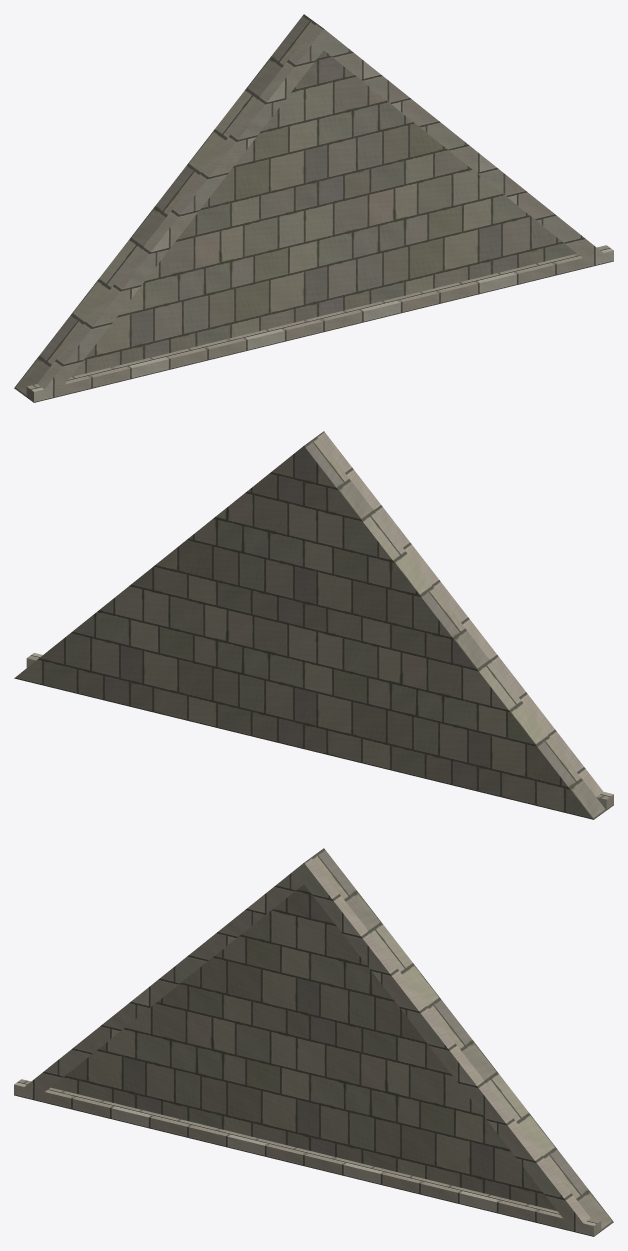
File: Furn_Roof2_GableEnd.fbx
The picture shows the model from 3 angles, top to bottom: view 1: azimuth 30°, elevation 25°; view 2: azimuth 150°, elevation 25°; view 3: azimuth 330°, elevation 25°; orthographic projection.
Parts seen in each view (by area): view 1: Furn_Roof2_GableEnd; view 2: Furn_Roof2_GableEnd; view 3: Furn_Roof2_GableEnd.
Part boxes in pixels (left/top/right/bottom): Furn_Roof2_GableEnd: left=14, top=14, right=613, bottom=402; Furn_Roof2_GableEnd: left=14, top=431, right=613, bottom=819; Furn_Roof2_GableEnd: left=14, top=848, right=613, bottom=1236.
Bounding box in the file's own units: 10 × 5 × 0.6.
